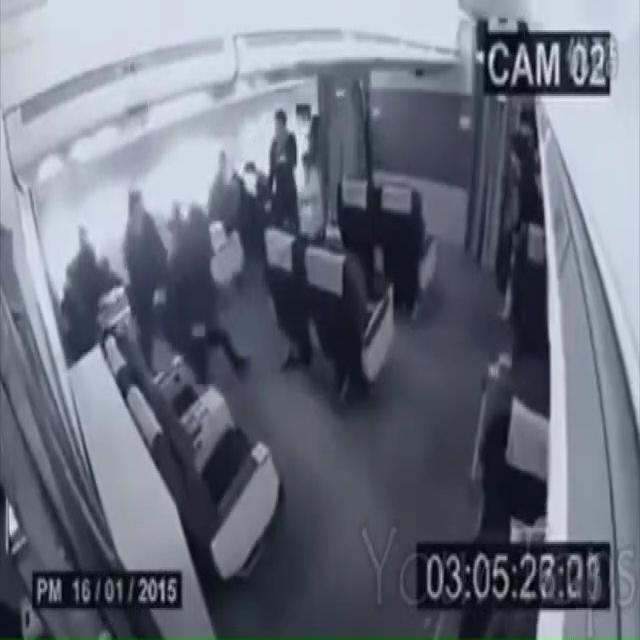fight: (125, 182, 252, 398)
